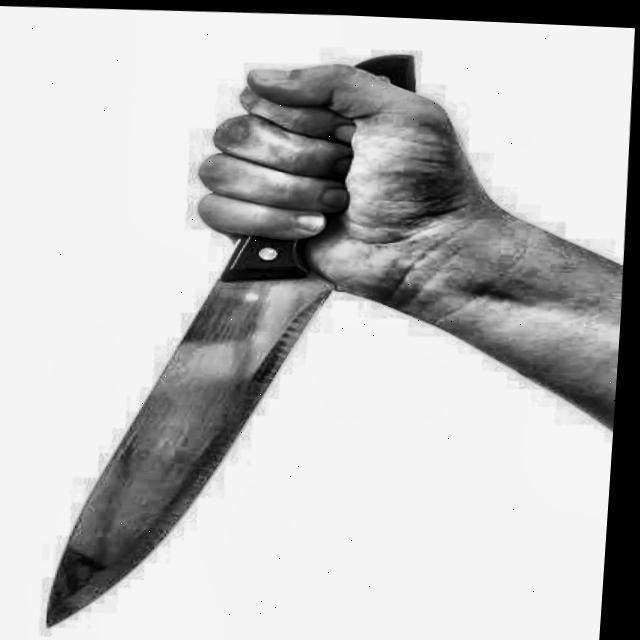pisau: (24, 39, 433, 637)
